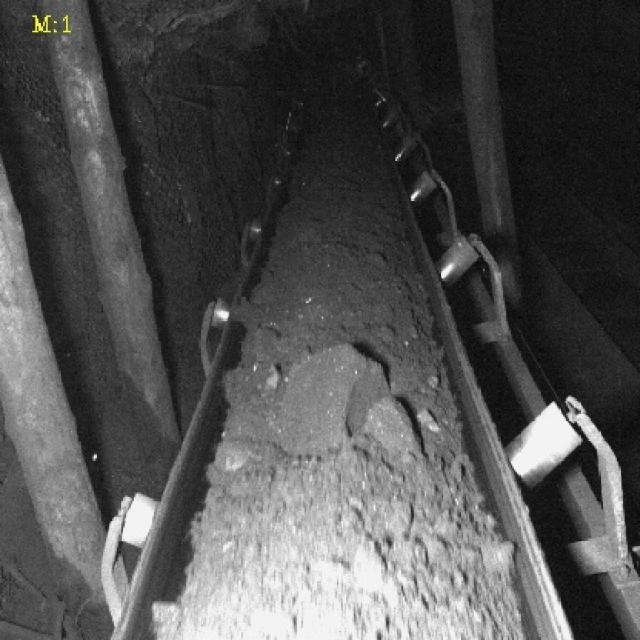large_sized_coal: (277, 345, 385, 457), (363, 398, 422, 464), (205, 438, 272, 491), (224, 362, 278, 411)
